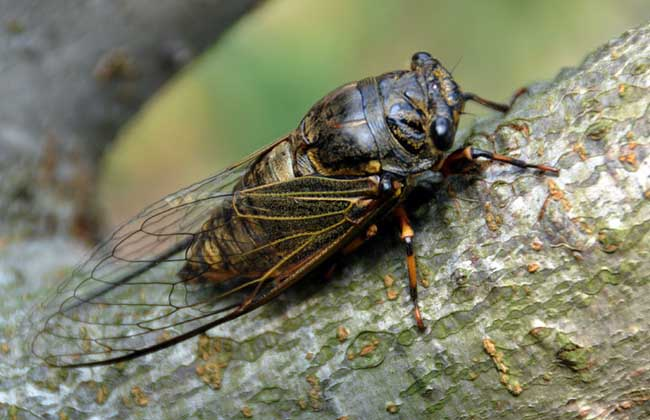chan: (90, 56, 481, 342)
